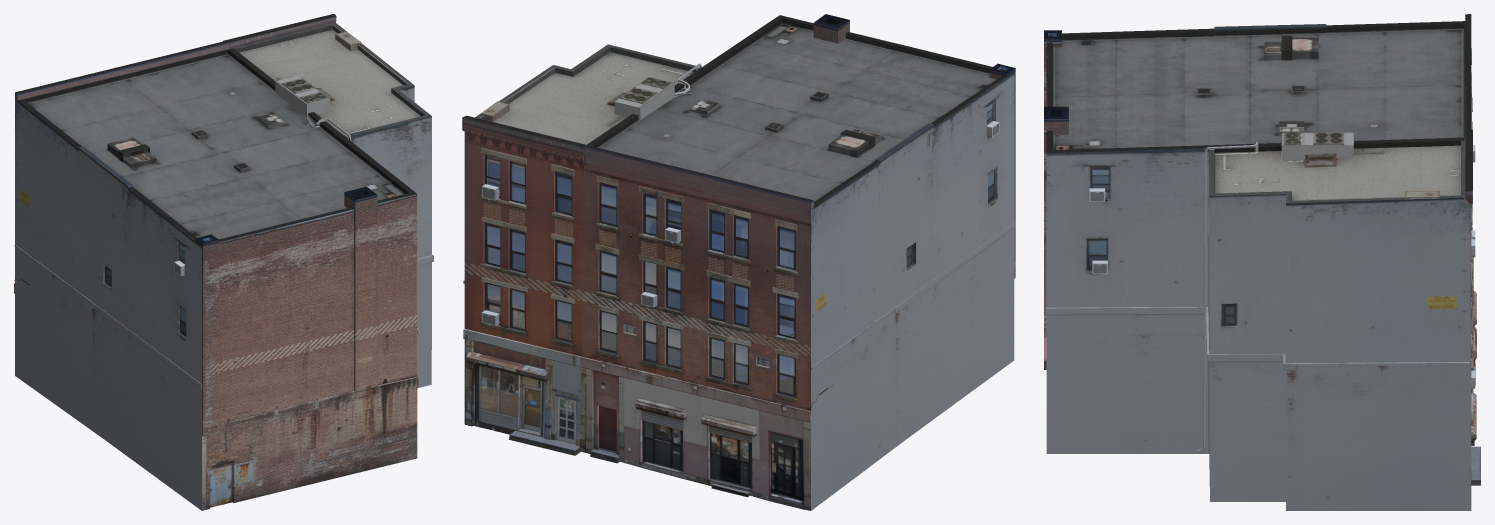
The model's file is Brooklyn_Street_Building_Low_Poly.glb.
The picture shows the model from 3 angles, left to right: view 1: azimuth 30°, elevation 25°; view 2: azimuth 150°, elevation 25°; view 3: azimuth 270°, elevation 25°; orthographic projection. The views are drawn at different scales.
Parts seen in each view (by area): view 1: unnamed; view 2: unnamed; view 3: unnamed.
Boxes of the visible parts, left/top/right/bottom form: unnamed: left=14, top=14, right=433, bottom=510; unnamed: left=462, top=14, right=1015, bottom=510; unnamed: left=1044, top=14, right=1480, bottom=510.
Size of the model in its own units: 17.71 by 14.85 by 18.21.
1 material, 1 textured.
